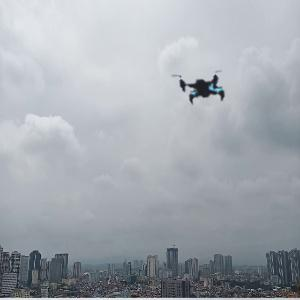drone: (158, 43, 250, 135)
